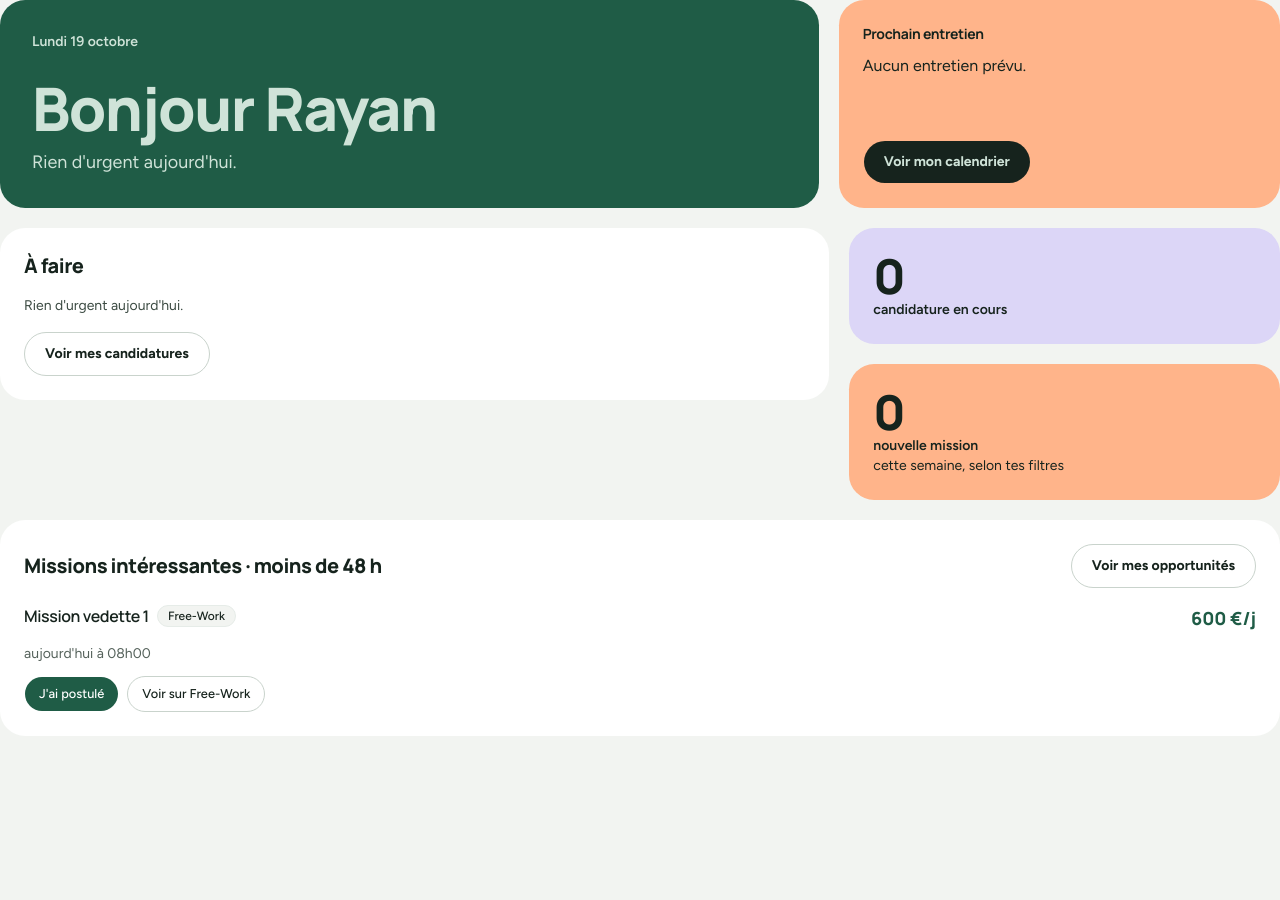
HomeDashboard › shows the error and does not refresh when applying fails
What coordinates should you click on to do the following:
click the button "J'ai postulé"
I would click on:
 (72, 694)
Its box is [24,676,119,712].
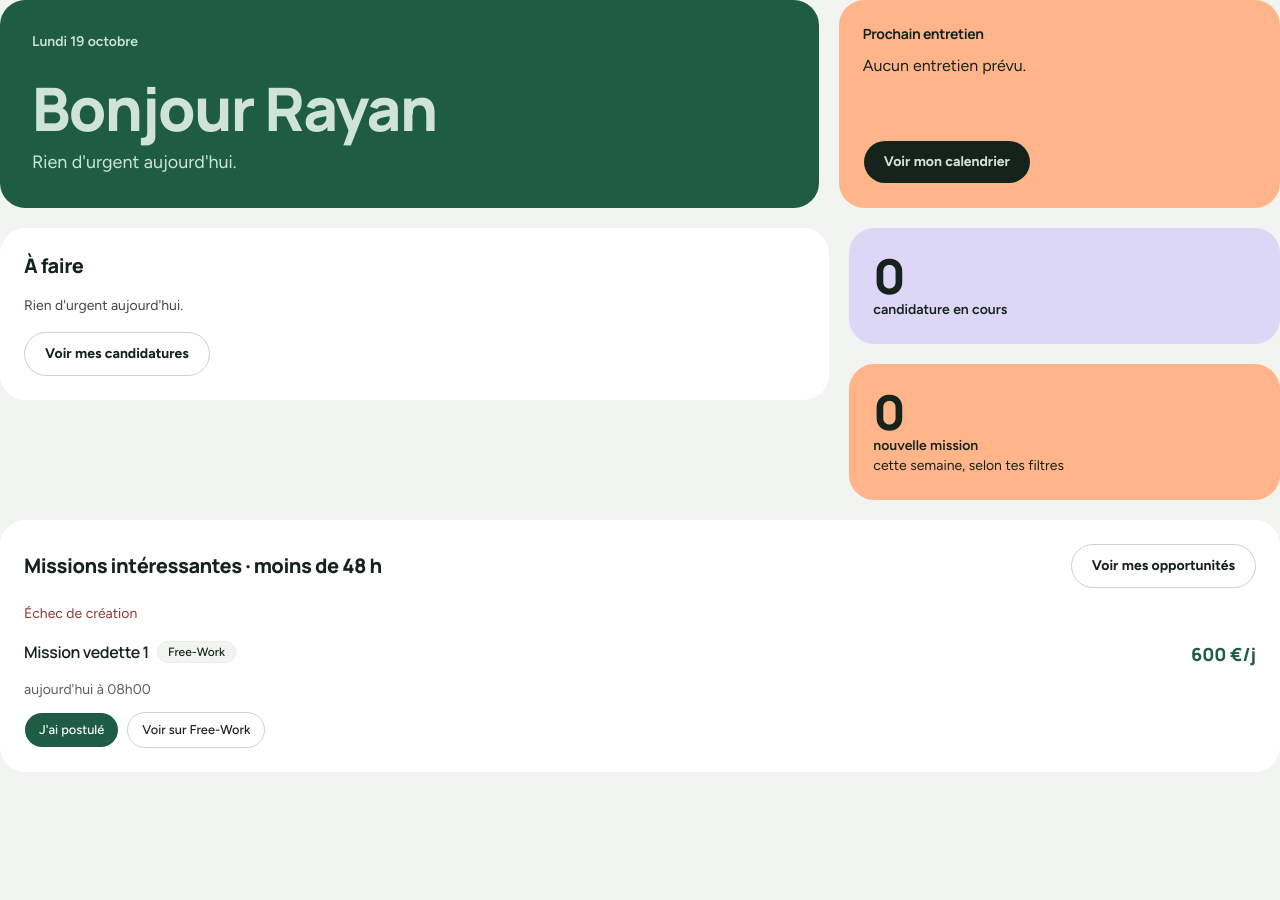
Expected: the message reads "Échec de création", [24,605,137,622]
